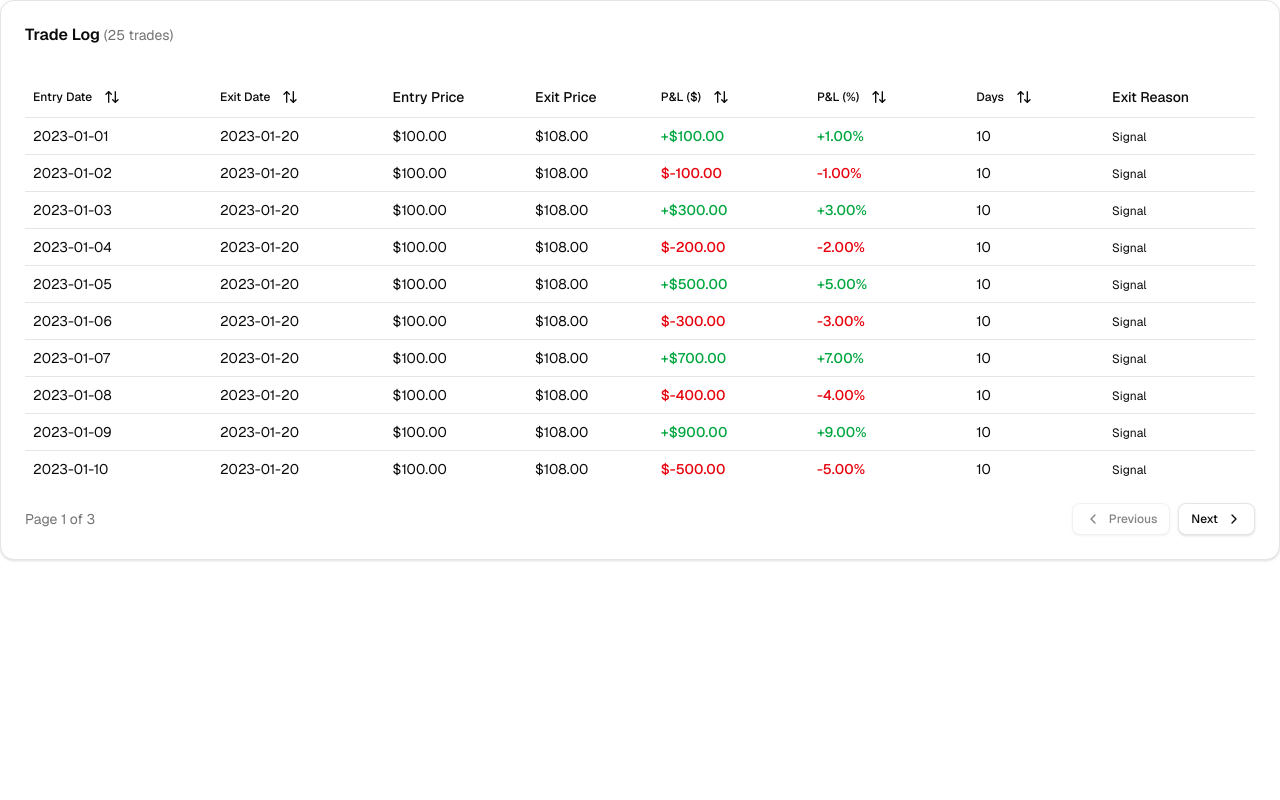
Test: TradeLogTable › navigates back to previous page
// Go to page 2
Click the button with test id "trade-log-next": (1217, 518) [1178,502,1255,534]
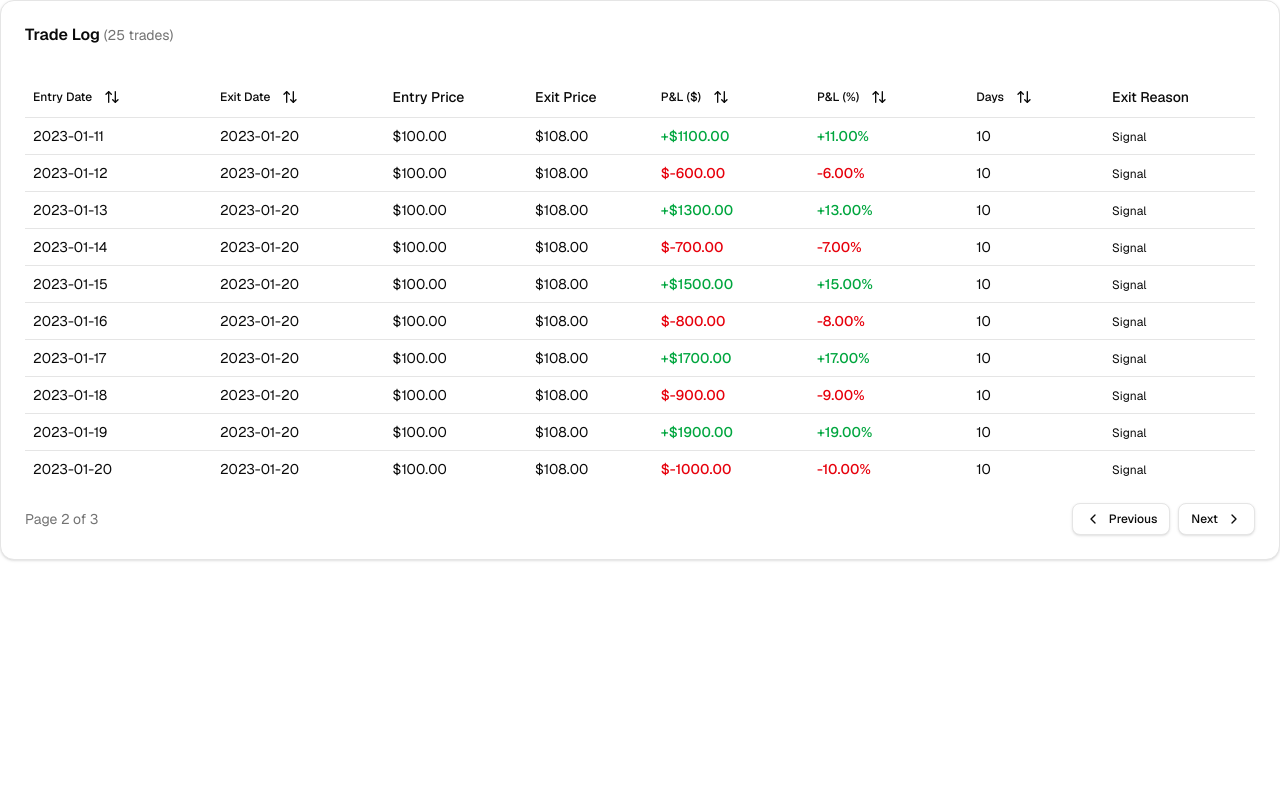
Result: the text "Page 2 of 3" is shown at [25,508,98,528]
// Go back to page 1
Click the button with test id "trade-log-prev": (1121, 518) [1072,502,1170,534]
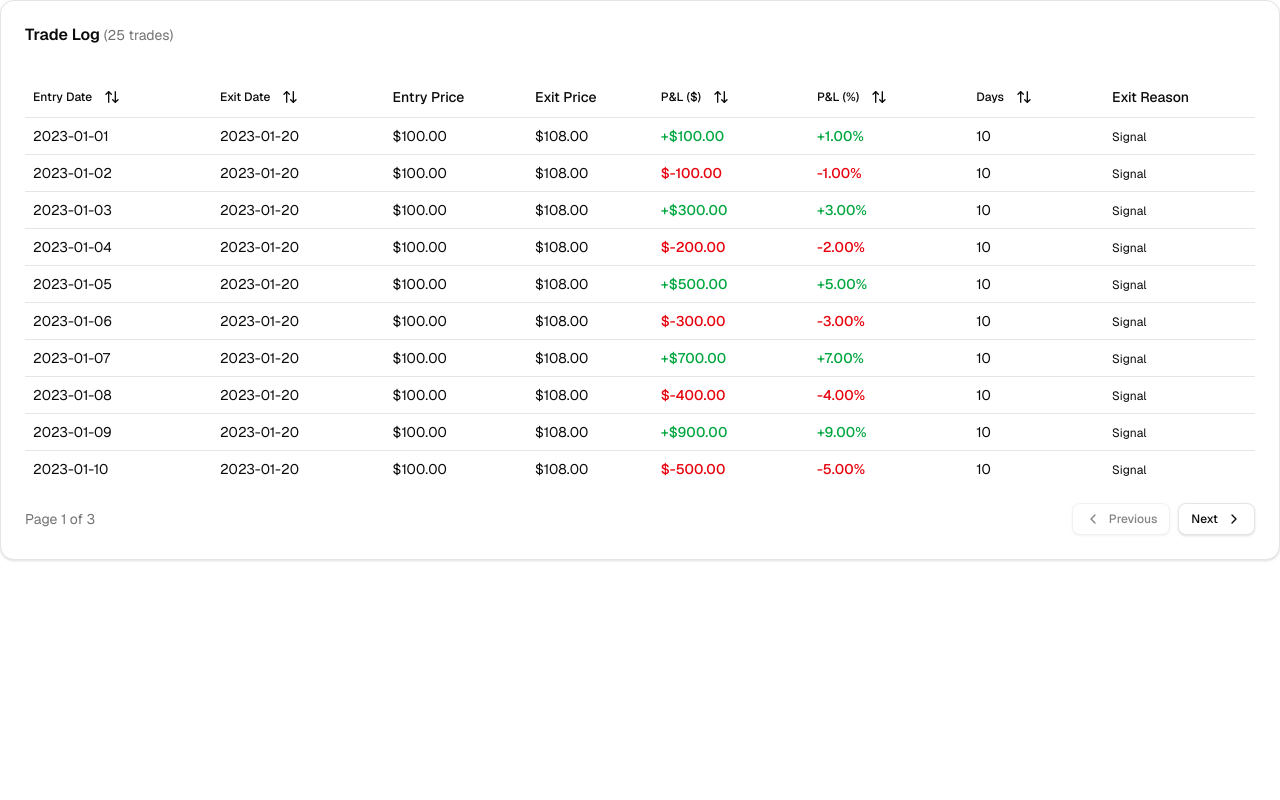
Result: the text "Page 1 of 3" is shown at [25,508,95,528]
